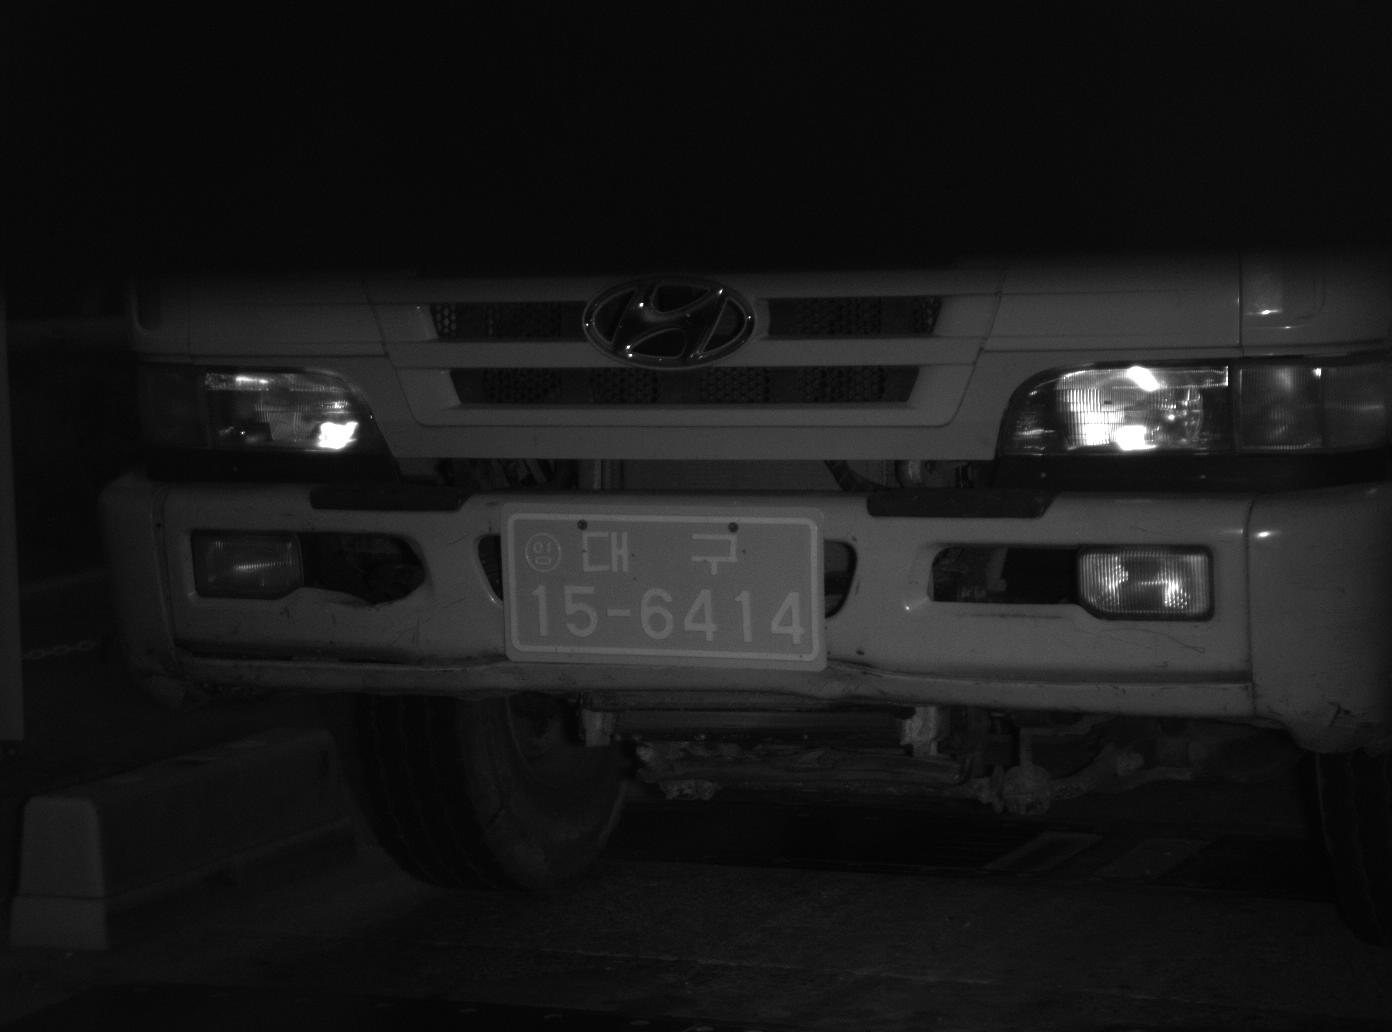car: (73, 206, 1383, 845)
plate: (497, 504, 823, 669)
